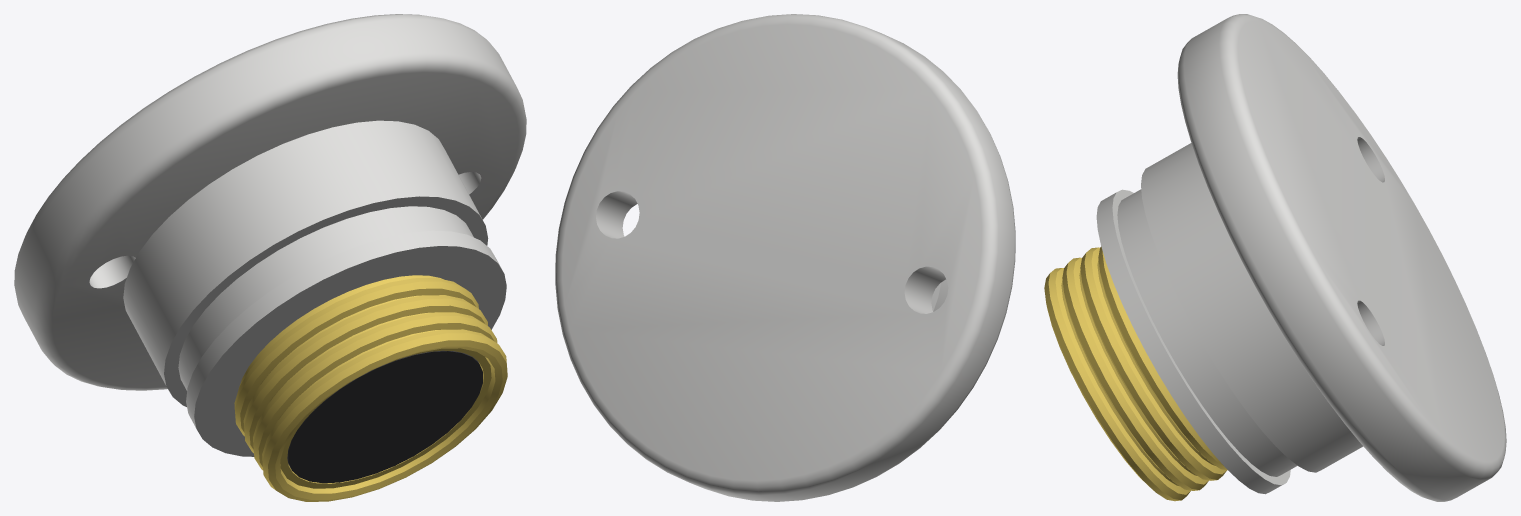
The model's file is PemegangLampu.glb.
3 views of the same model, side by side, from view 1: azimuth 30°, elevation 25°; view 2: azimuth 150°, elevation 25°; view 3: azimuth 270°, elevation 25° (orthographic). The views are drawn at different scales.
Parts seen in each view (by area): view 1: PemegangLampu; view 2: PemegangLampu; view 3: PemegangLampu.
Boxes of the visible parts, x1,y1,x2,y2 form: PemegangLampu: (14,14,526,501); PemegangLampu: (555,14,1015,501); PemegangLampu: (1044,14,1506,501).
Size of the model in its own units: 0.085 by 0.0787 by 0.074.
